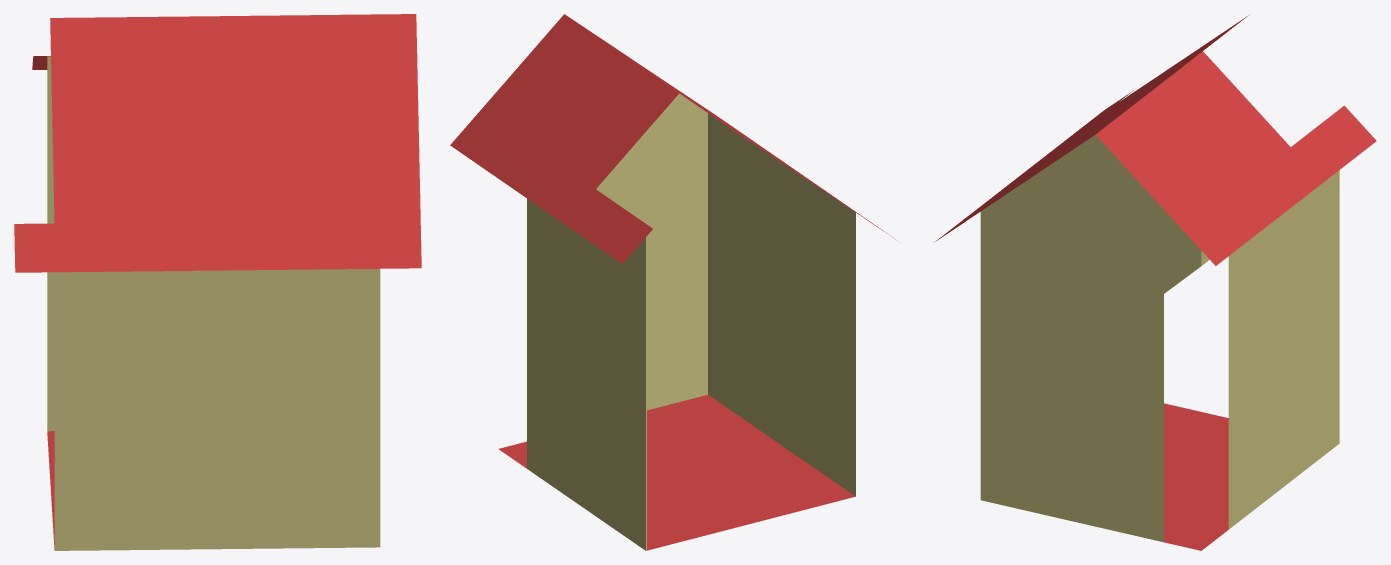
3 views of the same model, side by side, from view 1: azimuth 30°, elevation 25°; view 2: azimuth 150°, elevation 25°; view 3: azimuth 270°, elevation 25° (orthographic). The views are drawn at different scales.
Bounding box in the file's own units: 13.18 × 12.45 × 12.64.
